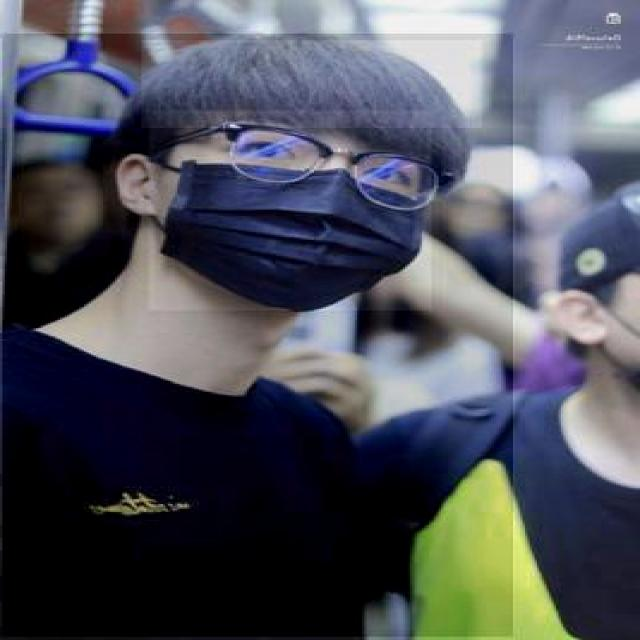face_mask: (148, 110, 432, 310)
glasses: (217, 120, 457, 214)
head_nohelmet: (139, 40, 482, 130)
person: (3, 33, 513, 640)
